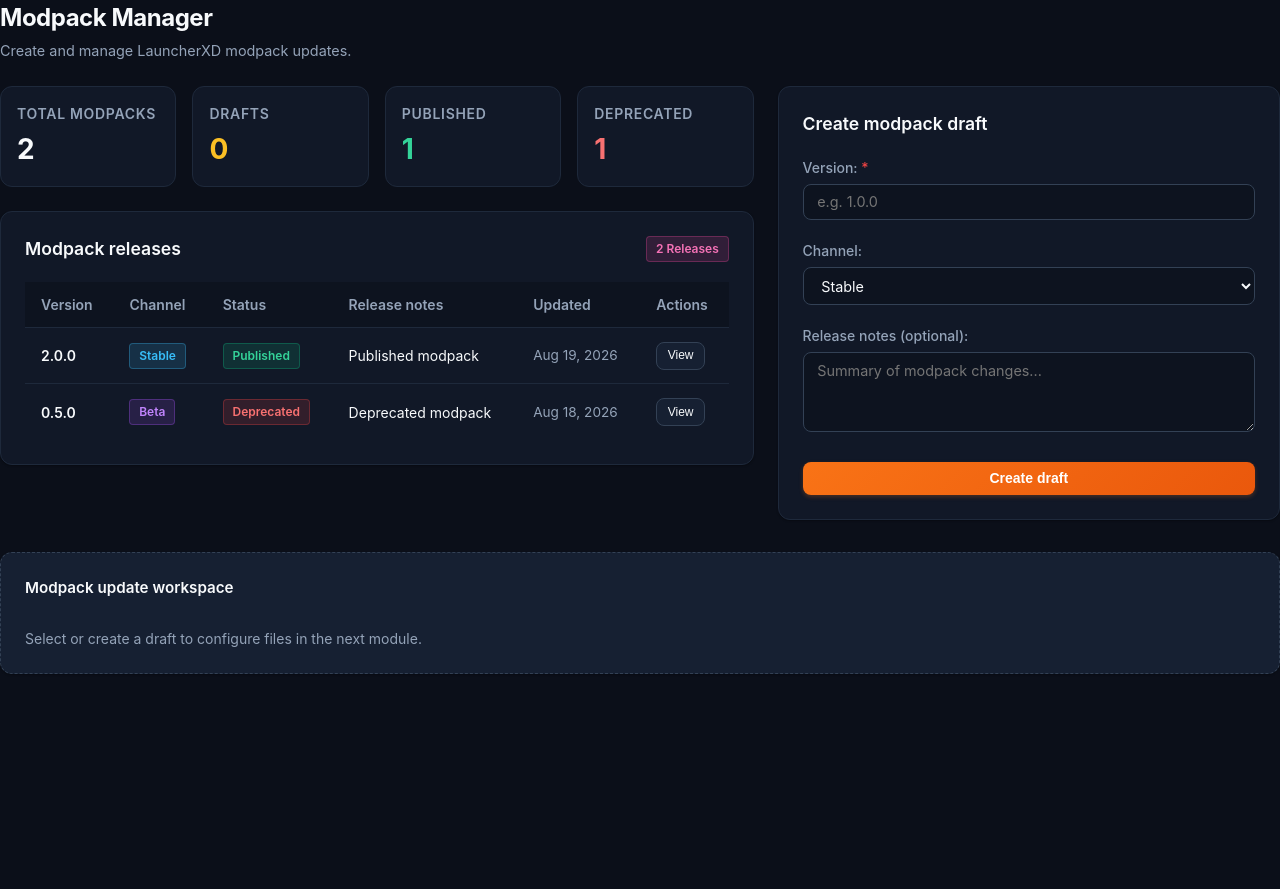
Test: Modpack Safe Purge Everywhere UI Tests (Phase 7F) › 2. Published and deprecated releases show warning banner and purge controls
Click published release
Click the button with test id "view-modpack-modpack-pub-1" at coordinates (681, 356), box [656,342,705,370]
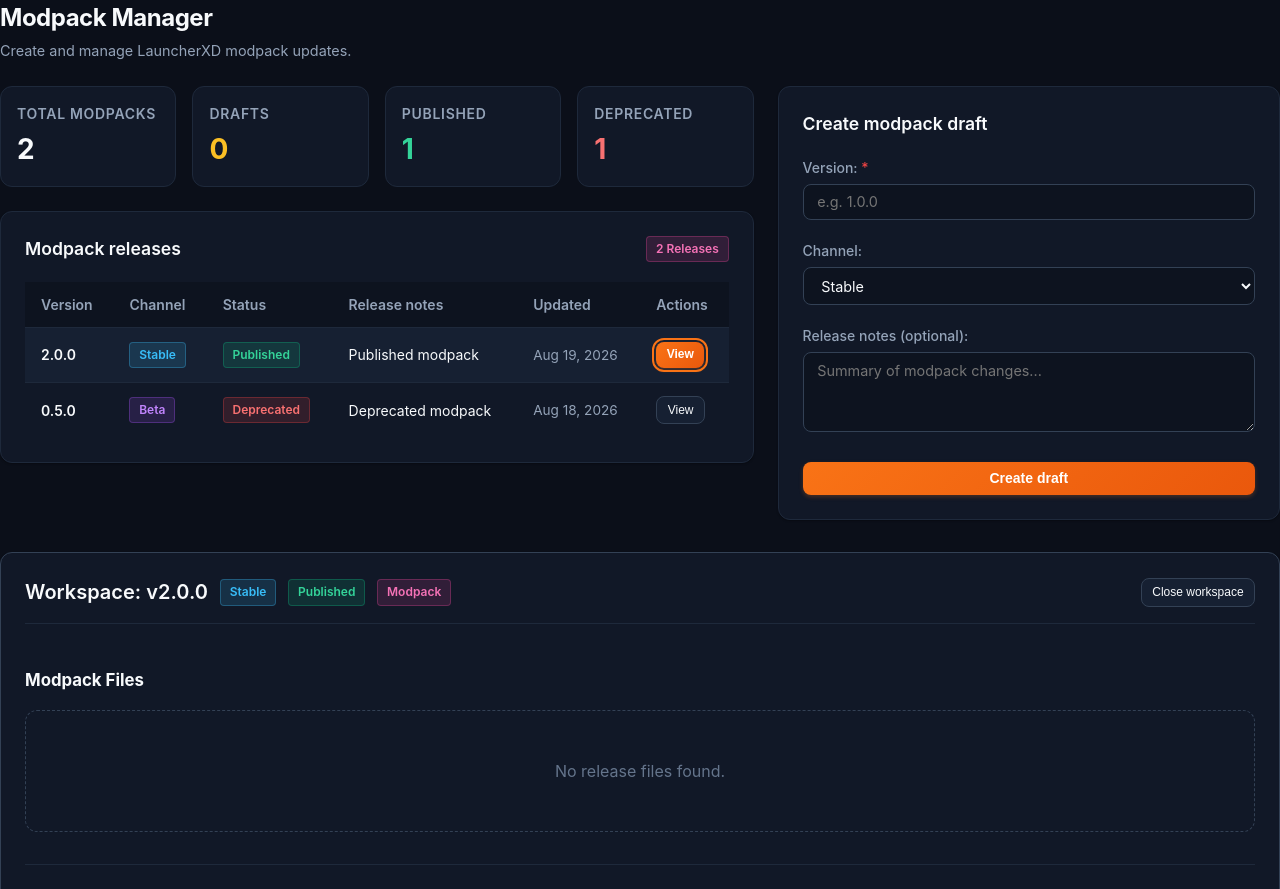
Click deprecated release
Click the button with test id "view-modpack-modpack-dep-1" at coordinates (681, 410), box [656,396,705,424]
(page scrolled)
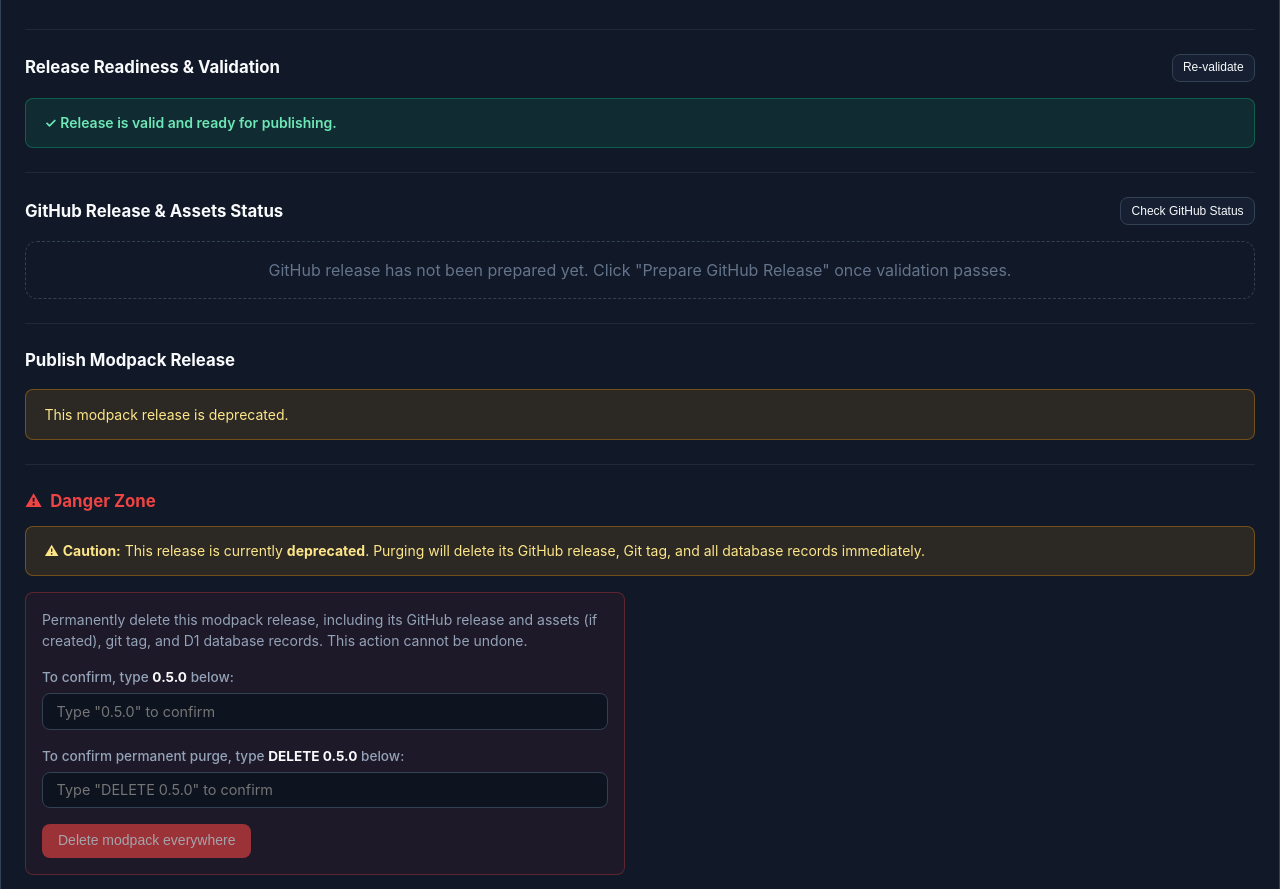
Result: the element with test id "published-release-warning" is shown at [25,526,1255,576]
Result: the button with test id "delete-draft-everywhere-btn" is shown at [42,824,251,858]
Result: the element with test id "published-release-warning" shows "deprecated" at [287,542,365,559]
